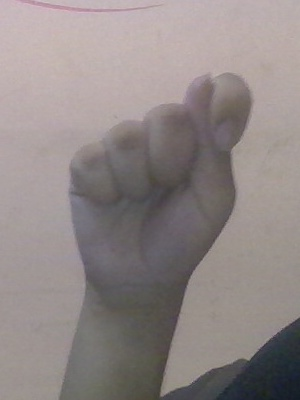T: (60, 67, 256, 310)
